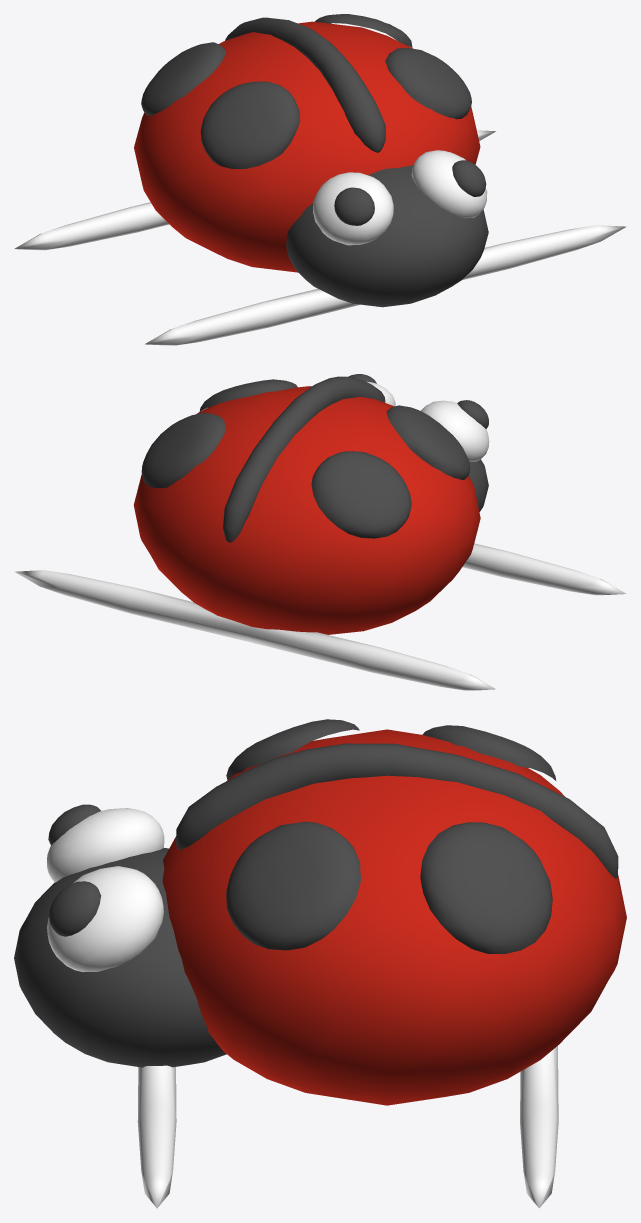
Rendered from chassis.005.glb.
3 renders of one model, top to bottom at view 1: azimuth 30°, elevation 25°; view 2: azimuth 150°, elevation 25°; view 3: azimuth 270°, elevation 25°, orthographic. The views are drawn at different scales.
Parts seen in each view (by area): view 1: chassis.005; view 2: chassis.005; view 3: chassis.005.
Part boxes in pixels (x1,y1,x2,y2): chassis.005: [14, 14, 626, 345]; chassis.005: [14, 374, 626, 690]; chassis.005: [14, 719, 626, 1208].
Size of the model in its own units: 3.69 by 1.62 by 2.77.
